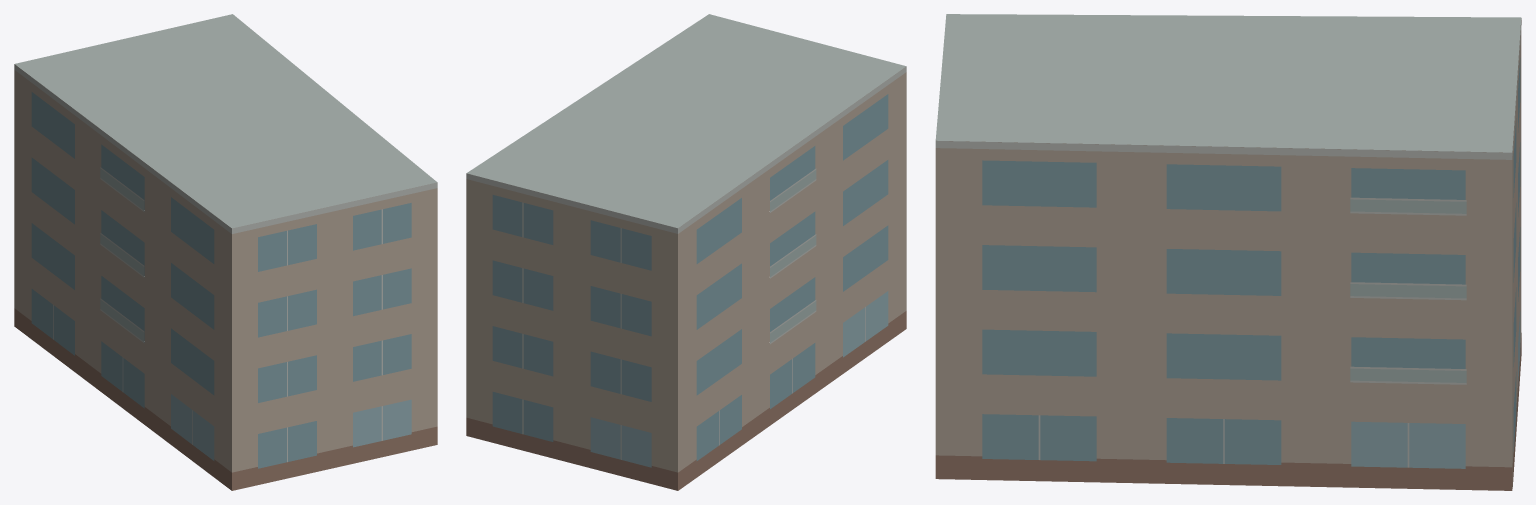
Rendered from survey-upis-32983283.glb.
3 renders of one model, left to right at view 1: azimuth 30°, elevation 25°; view 2: azimuth 150°, elevation 25°; view 3: azimuth 270°, elevation 25°, orthographic. The views are drawn at different scales.
Parts seen in each view (by area): view 1: survey-upis-32983283.tmp; view 2: survey-upis-32983283.tmp; view 3: survey-upis-32983283.tmp.
Part boxes in pixels (bbox=[...]): survey-upis-32983283.tmp: bbox=[14, 14, 437, 490]; survey-upis-32983283.tmp: bbox=[466, 14, 906, 490]; survey-upis-32983283.tmp: bbox=[935, 14, 1521, 490].
Size of the model in its own units: 9.94 by 11.3 by 17.75.
